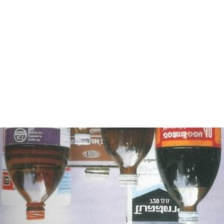book: (121, 98, 195, 223), (57, 92, 130, 170)
insecticide: (2, 84, 74, 223), (154, 80, 223, 223), (98, 81, 154, 190), (64, 76, 97, 146)
